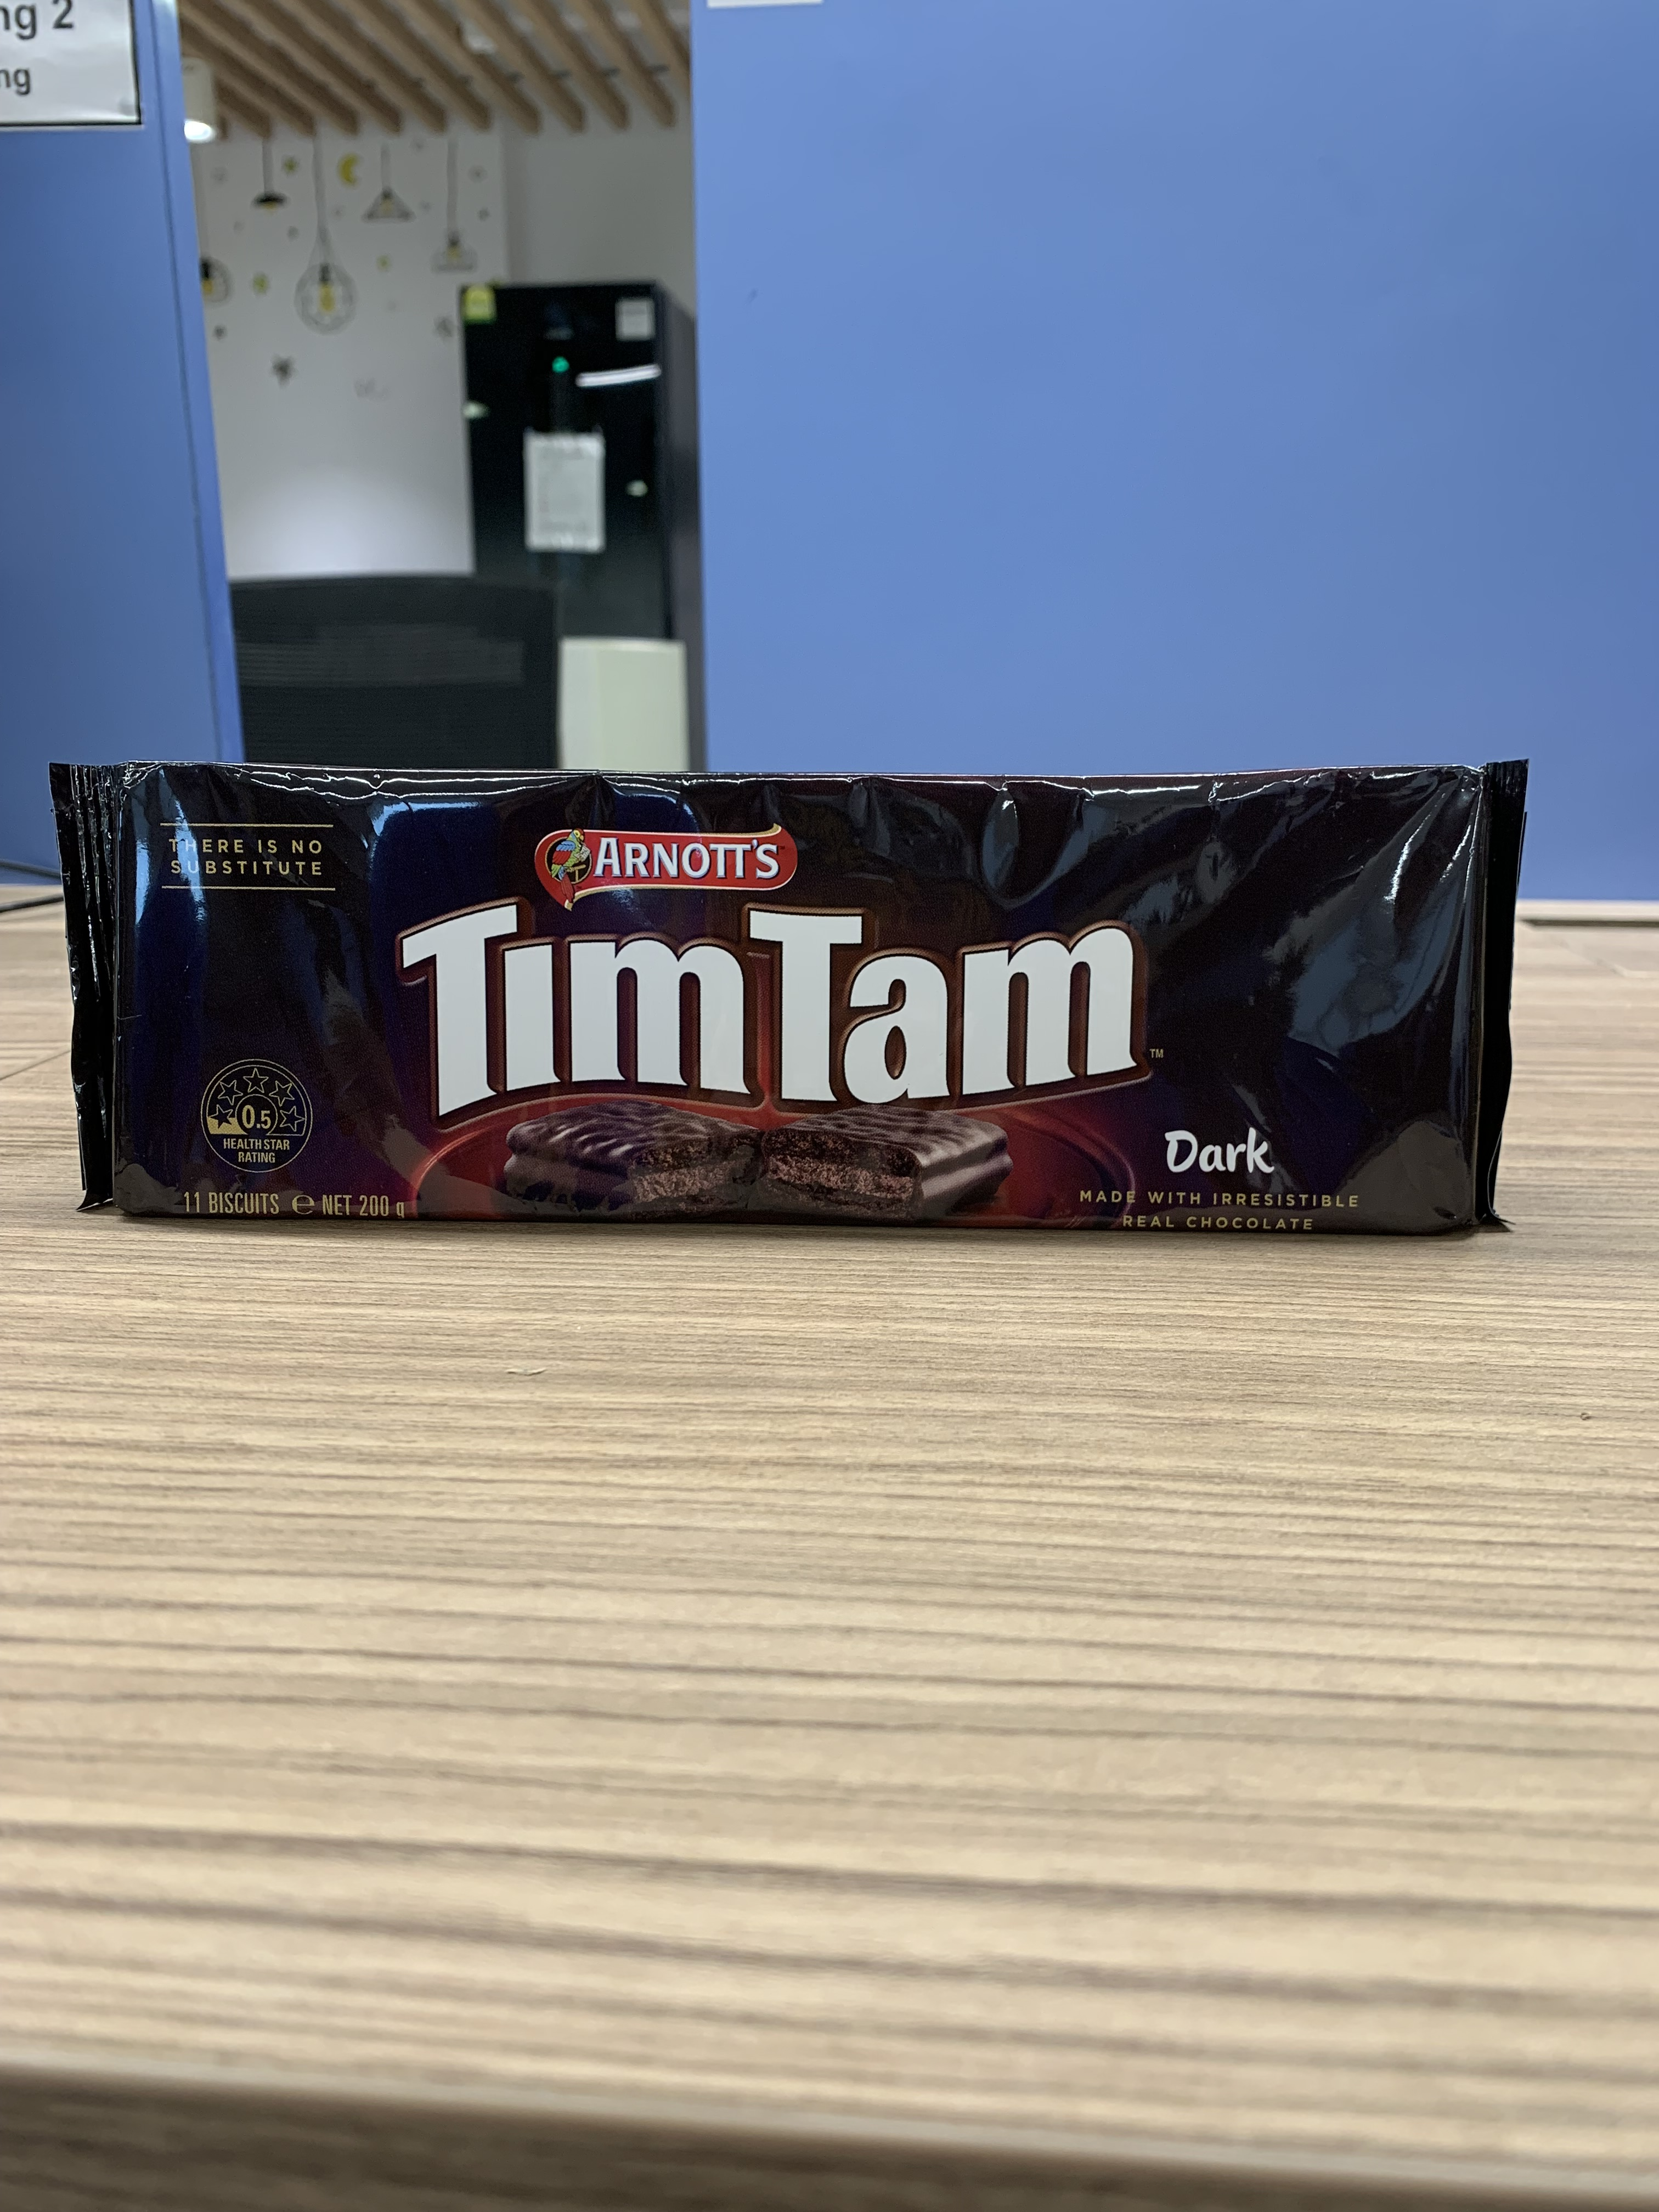cookies_200g-299g: (143, 777, 1441, 1219)
